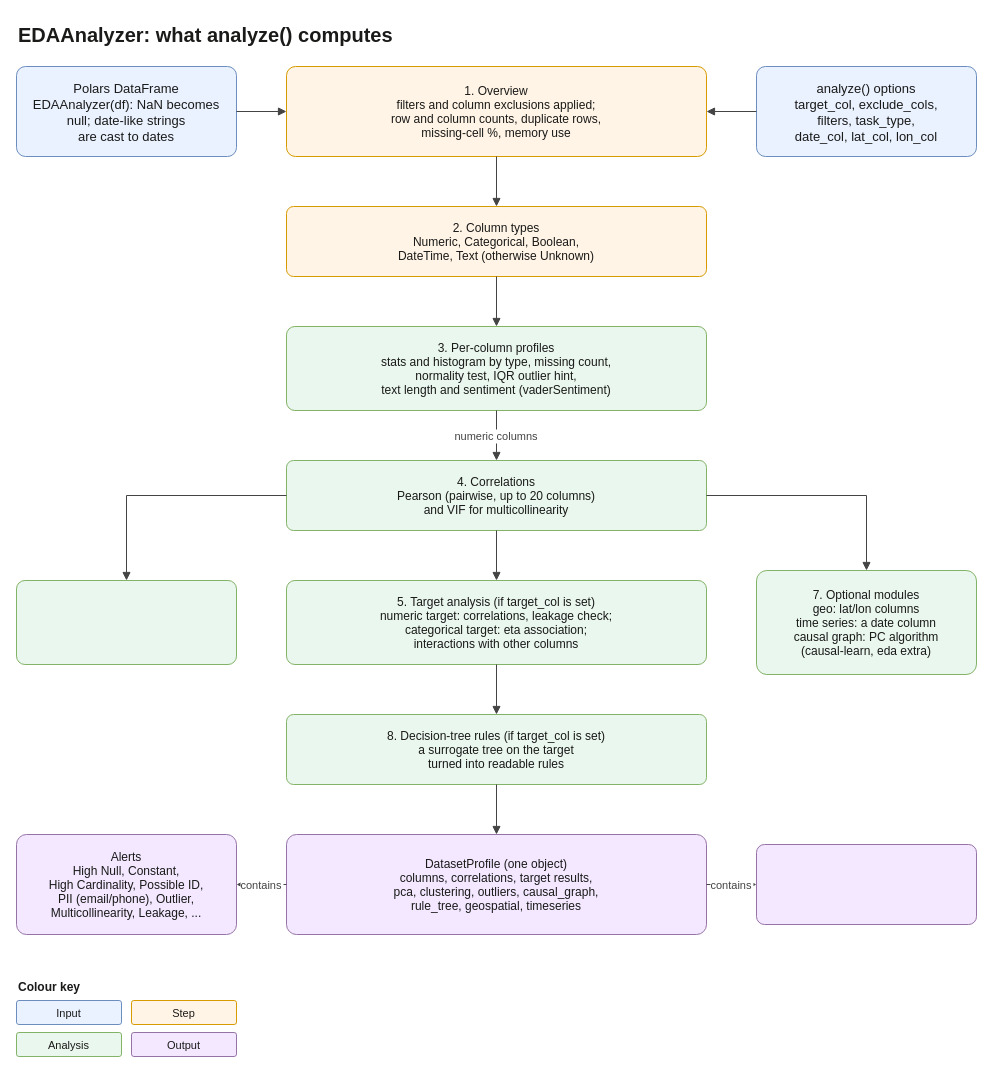
Image size: 993x1073. Some labels were removed from this diagram. Each missing label, with the box of its shape:
6. Multivariate PCA, KMeans clusters (k=3), Isolation Forest outlier rows: (16, 580, 236, 664)
Recommendations Drop, Impute, Transform, Encode, Resample: (756, 844, 976, 924)
